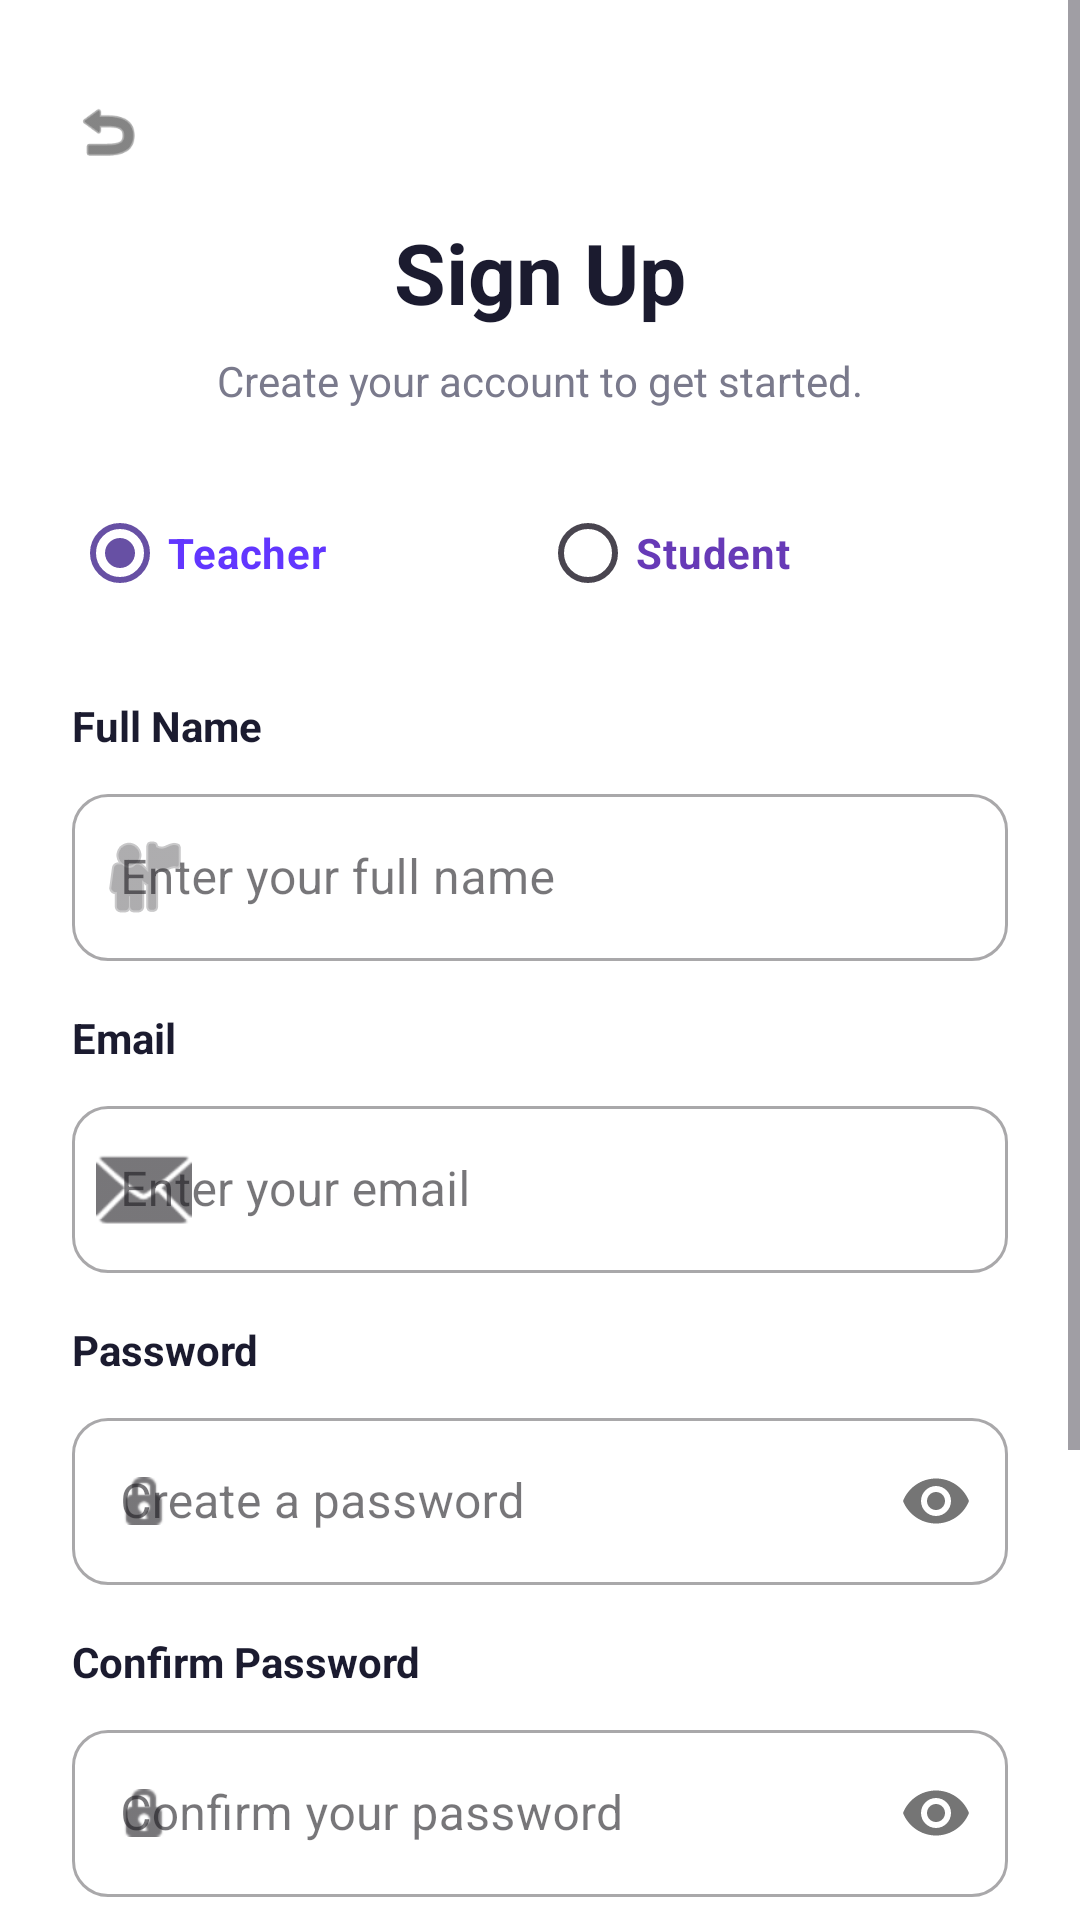

Named icons in this screenshot (1080*1920) and their bounding boxes, [x1,y1,x2,y2]:
revert: [83,109,135,156]
